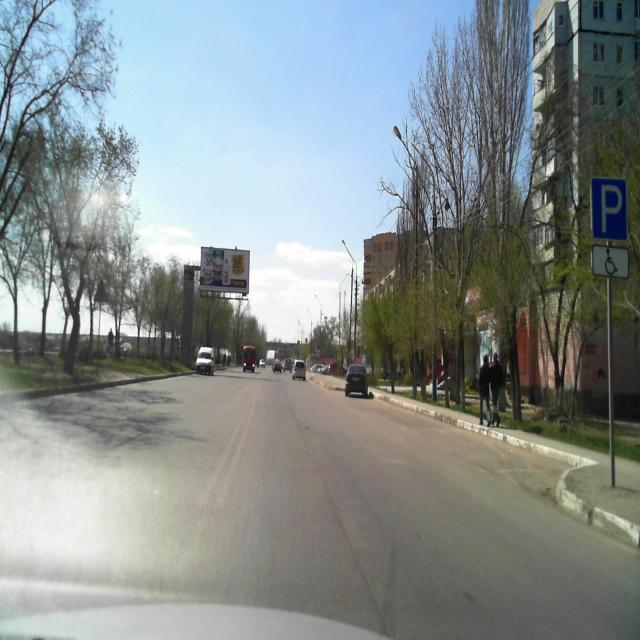road sign: (590, 176, 628, 242), (591, 244, 629, 279)
